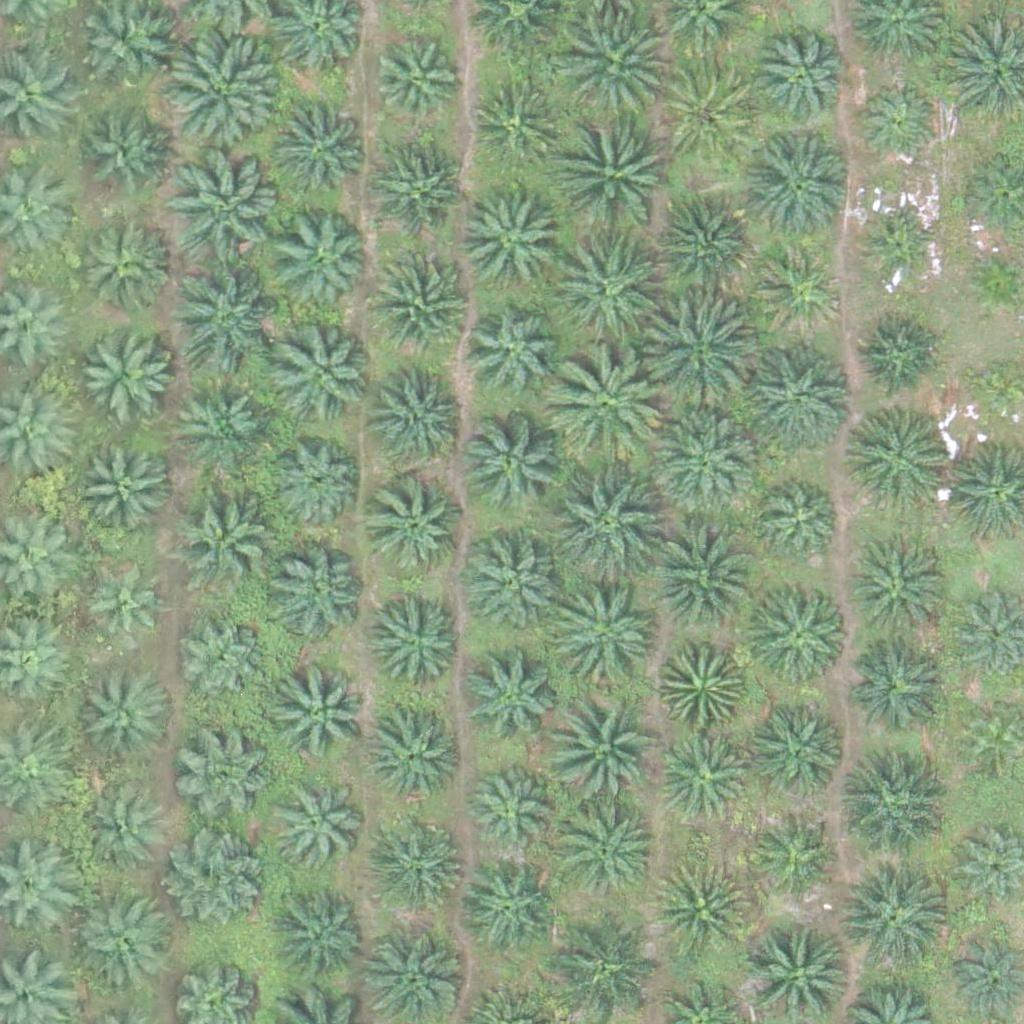Kelapa_Sawit: (547, 235, 660, 349), (556, 7, 669, 121), (552, 907, 665, 1020), (552, 582, 665, 695), (551, 466, 664, 579), (164, 35, 277, 148), (652, 403, 764, 517), (558, 110, 670, 224), (165, 262, 277, 375), (551, 796, 663, 909), (546, 686, 658, 799), (549, 349, 661, 462), (639, 297, 751, 410), (644, 518, 756, 631), (742, 338, 854, 451), (833, 749, 945, 862), (834, 863, 946, 976), (741, 128, 853, 241), (171, 151, 283, 264), (73, 890, 173, 991), (74, 441, 174, 542), (76, 322, 176, 423), (72, 213, 172, 314), (171, 374, 271, 475), (174, 485, 274, 586), (173, 723, 273, 824), (171, 827, 271, 928), (268, 208, 368, 309), (274, 662, 374, 763), (267, 777, 367, 878), (271, 886, 371, 987), (364, 705, 464, 806), (366, 476, 466, 577), (367, 252, 467, 353), (464, 303, 564, 404), (462, 413, 562, 514), (457, 649, 557, 750), (460, 861, 560, 962), (650, 860, 750, 961), (749, 704, 849, 805), (748, 580, 848, 681), (850, 544, 950, 645), (848, 635, 948, 736), (750, 27, 850, 128), (369, 140, 469, 241), (266, 99, 366, 200), (273, 327, 373, 427), (264, 544, 364, 644), (372, 816, 472, 916), (367, 592, 467, 692), (374, 363, 474, 463), (458, 194, 558, 294), (461, 531, 561, 631), (654, 198, 754, 298), (847, 406, 947, 506), (659, 64, 759, 164), (83, 667, 171, 755), (178, 617, 266, 705), (661, 730, 749, 818), (755, 805, 843, 893), (853, 81, 941, 169), (469, 79, 557, 167), (371, 41, 459, 129), (79, 108, 167, 196), (77, 560, 164, 649), (756, 246, 843, 334), (78, 788, 165, 876), (273, 438, 360, 526), (467, 763, 554, 851), (659, 638, 746, 726), (760, 480, 847, 568), (855, 310, 942, 398), (865, 216, 940, 291)
